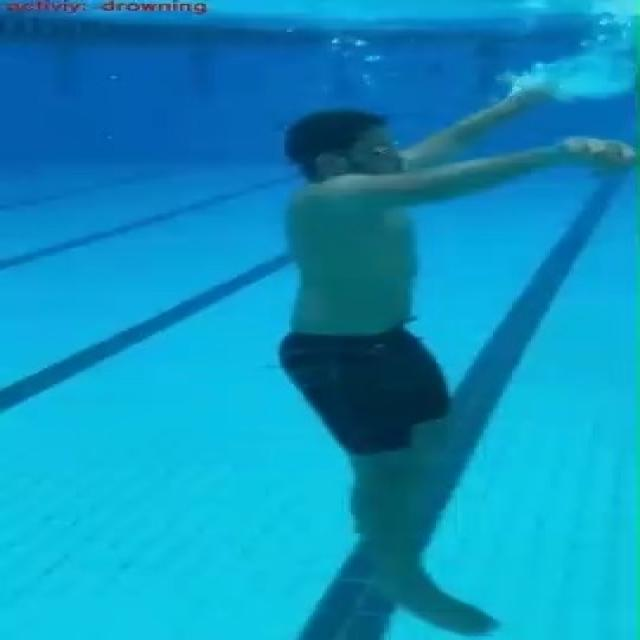Drowning: (256, 81, 638, 640)
